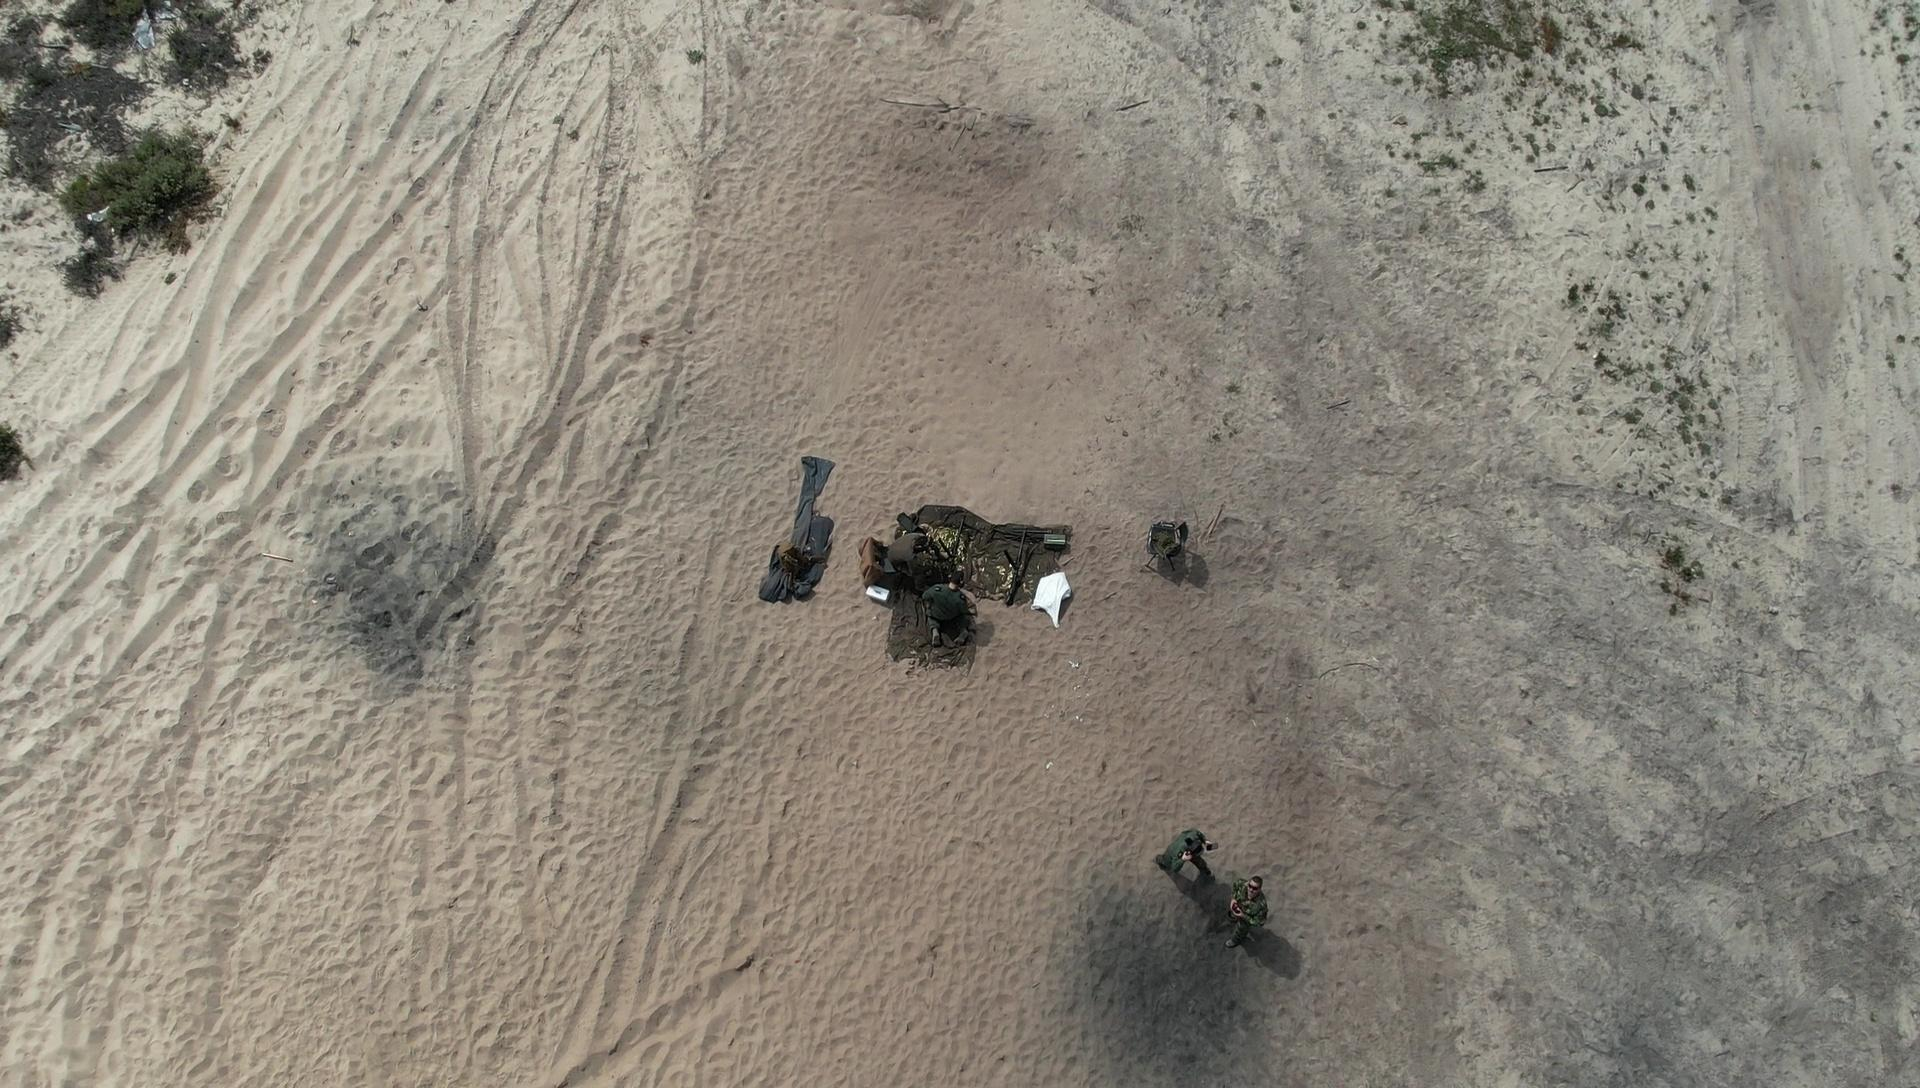Soldier: (907, 549, 977, 662), (1215, 859, 1288, 964), (1156, 806, 1226, 889), (885, 518, 931, 578)
